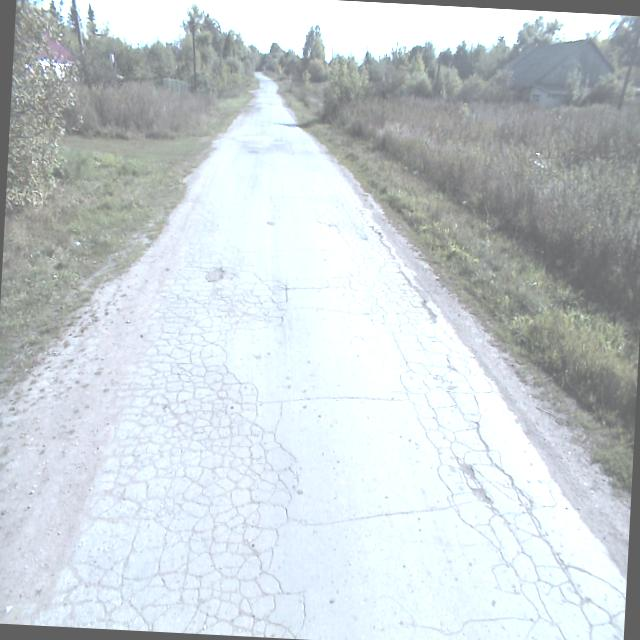road: (34, 71, 626, 640)
